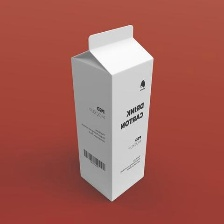carton: (68, 22, 154, 205)
